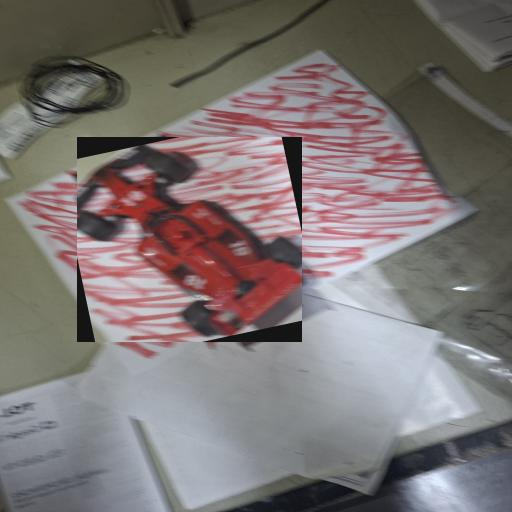carro: (77, 137, 300, 341)
